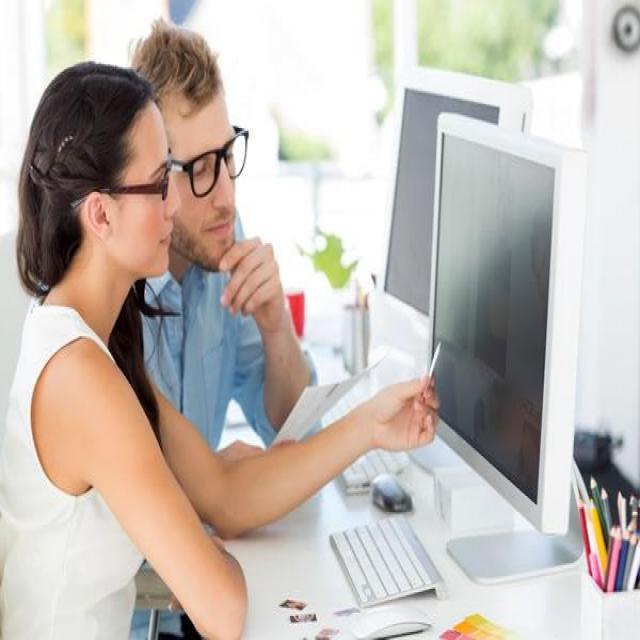person: (0, 34, 253, 638), (129, 11, 313, 461)
